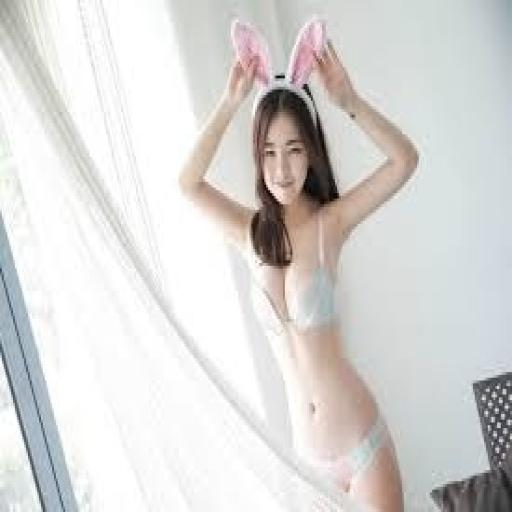dancing: (175, 17, 423, 509)
